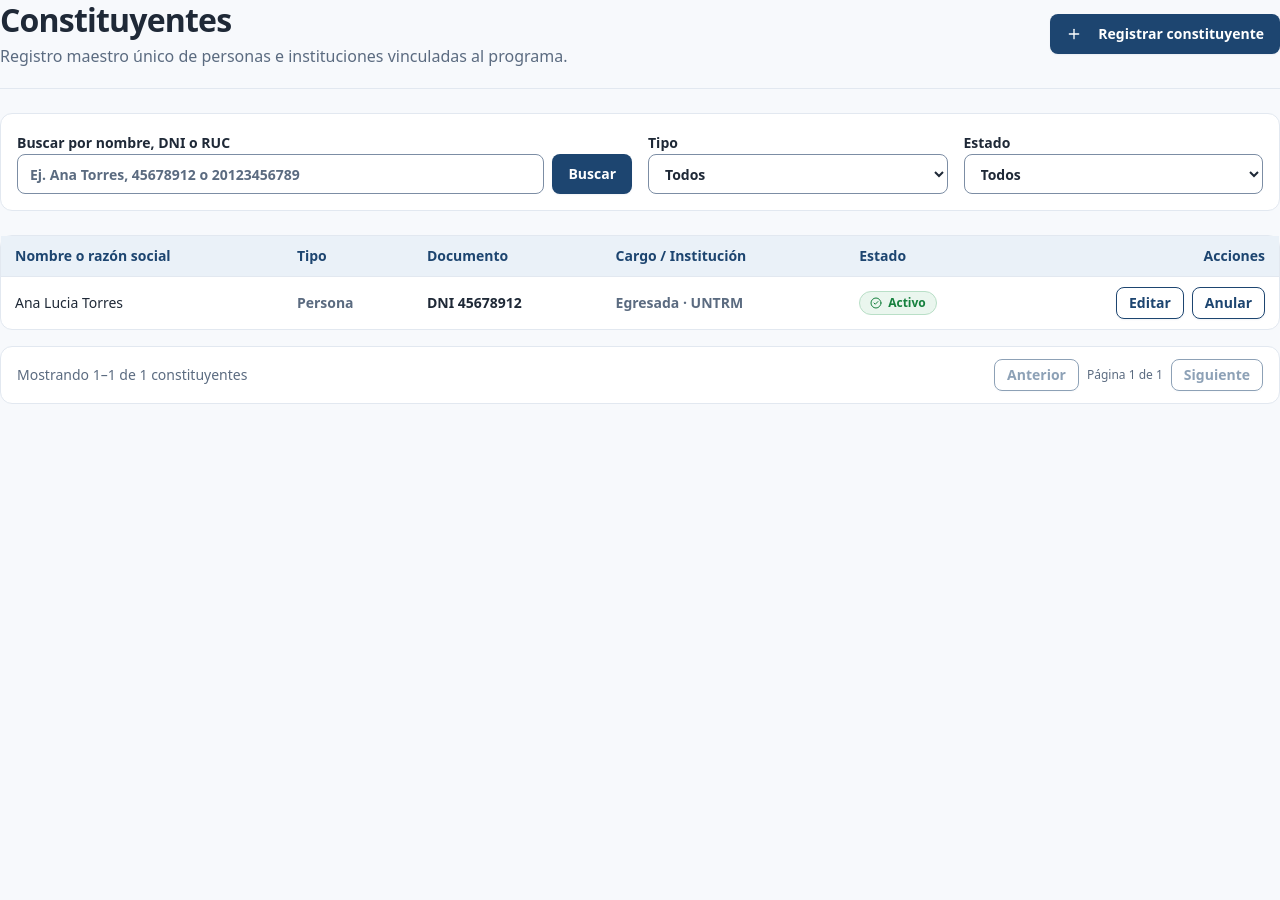
Test: StakeholdersPage (HU-021, T-021-17, T-021-29) › registers and edits a stakeholder in a dialog
Expected: the text "Ana Lucia Torres" is shown, [1,276,283,328]
Click the button "Registrar constituyente" at {"x": 1165, "y": 34}, box [1050,14,1279,54]
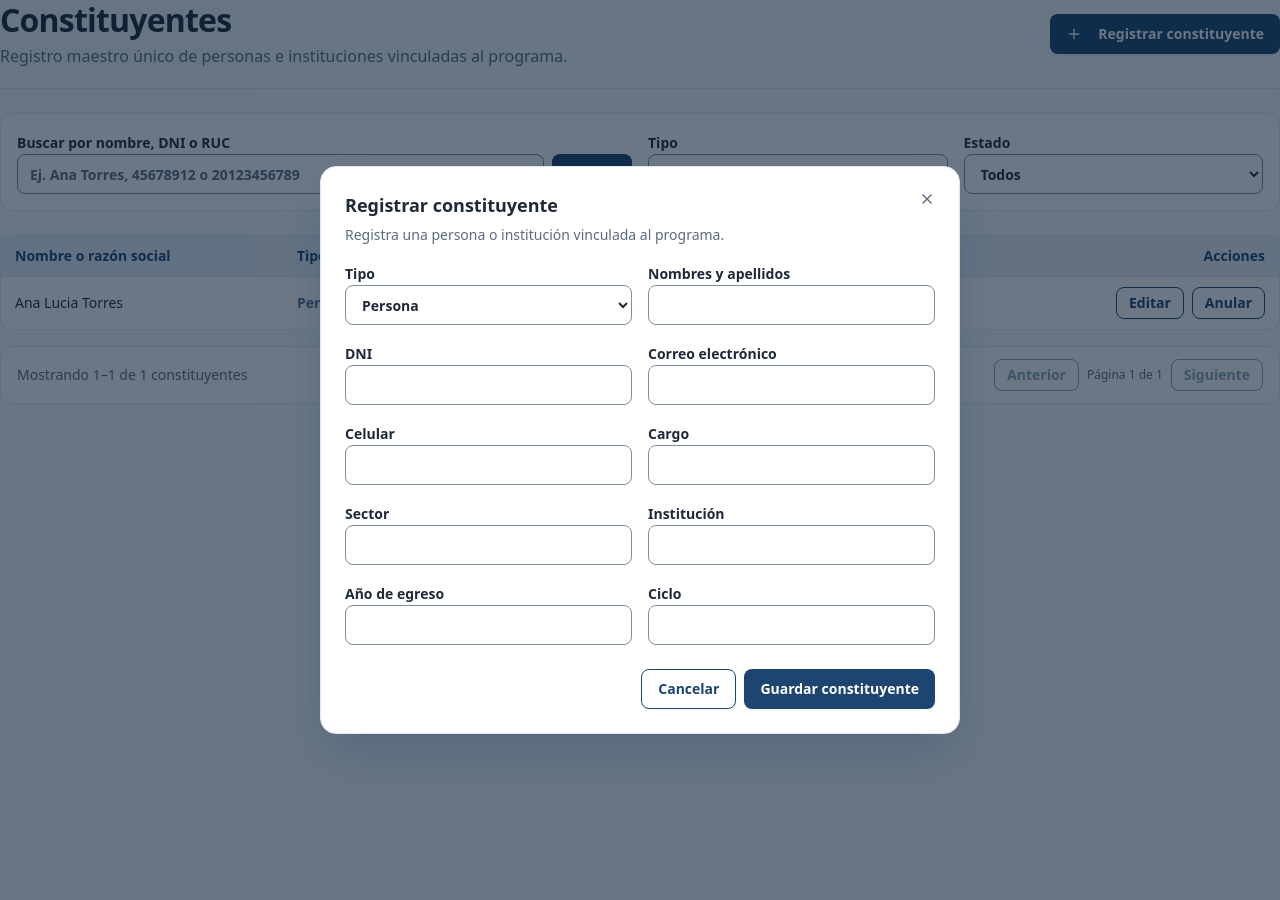
Now the dialog shows "Registrar constituyente", box [345,193,558,217]
Click the button "Cancelar" at {"x": 689, "y": 689}, box [641,669,736,709]
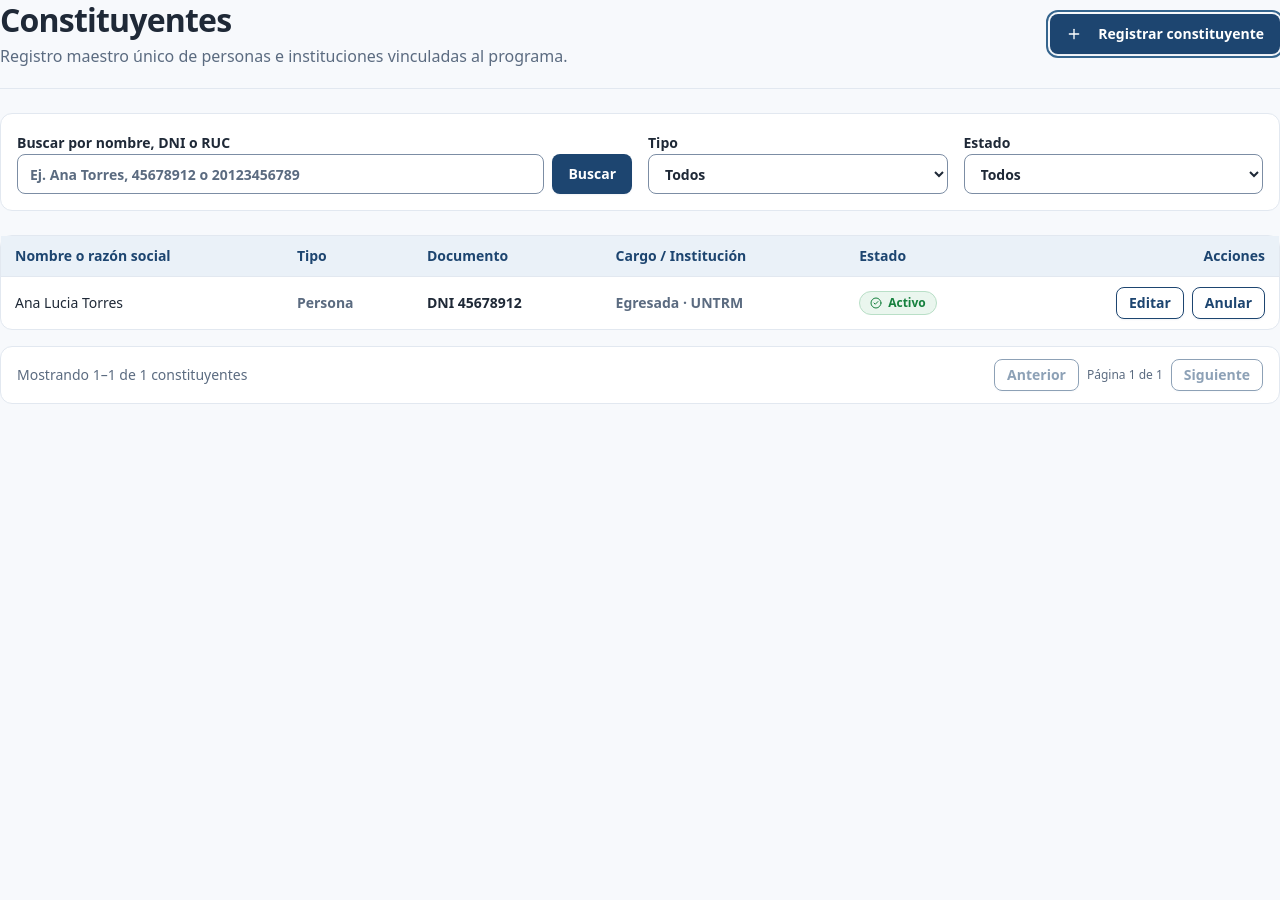
Now the dialog is gone
Click the button "Editar" at {"x": 1150, "y": 302}, box [1116,286,1184,318]
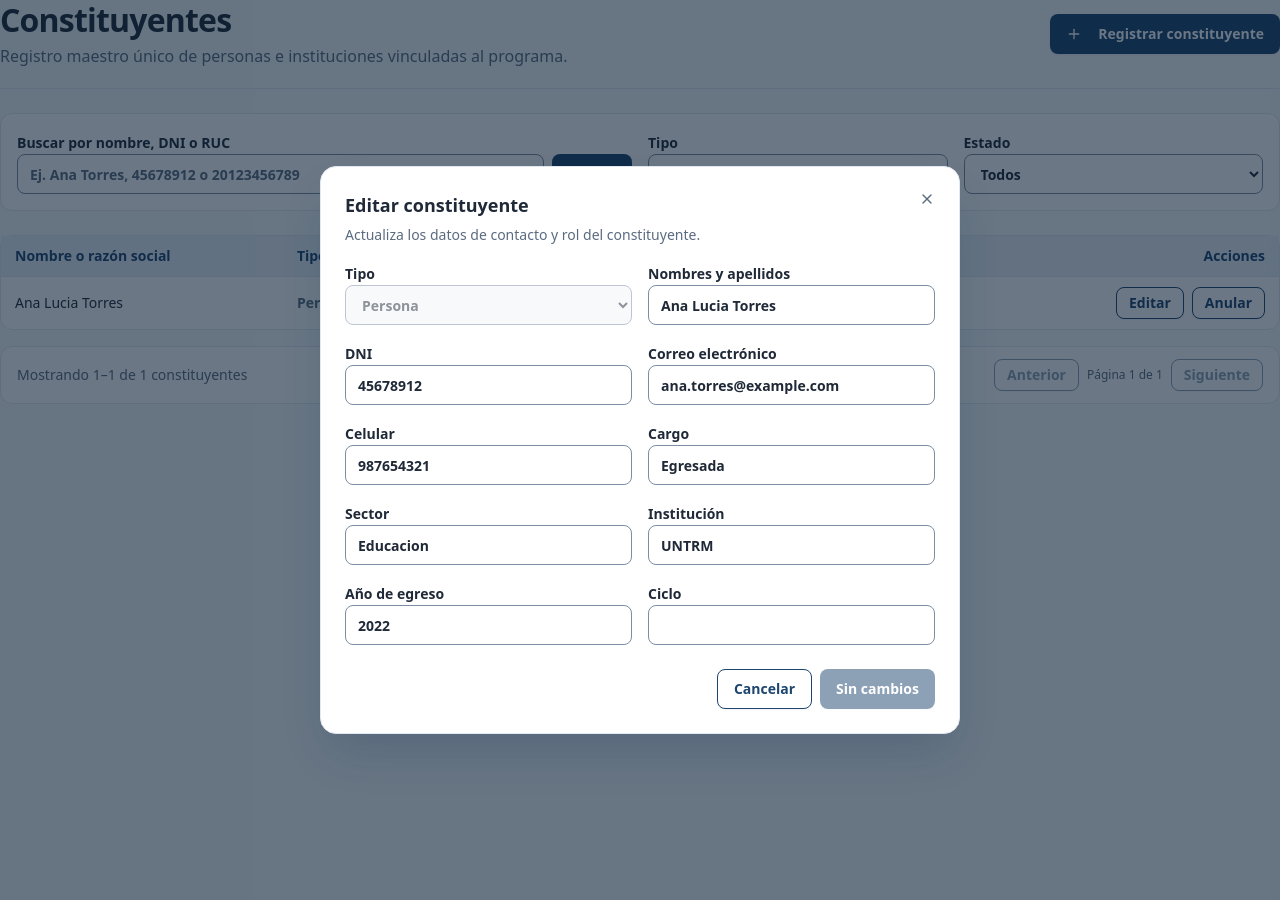
Now the dialog shows "Editar constituyente", box [345,193,529,217]
Replace the text in the field labelled "Nombres y apellidos" with "Ana Lucia Editada" at {"x": 792, "y": 305}, box [648,285,935,325]
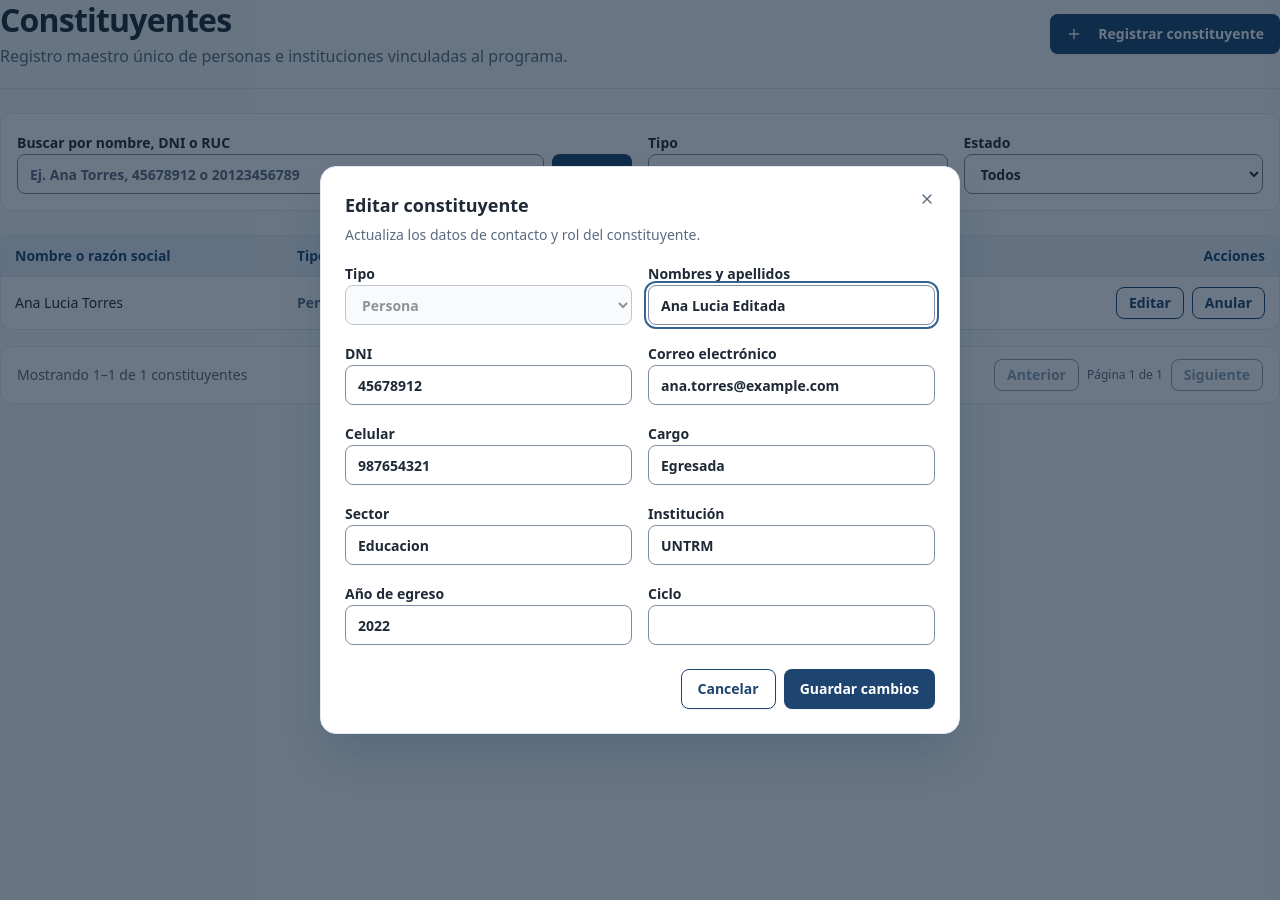
Click the button "Guardar cambios" at {"x": 859, "y": 689}, box [784,669,935,709]
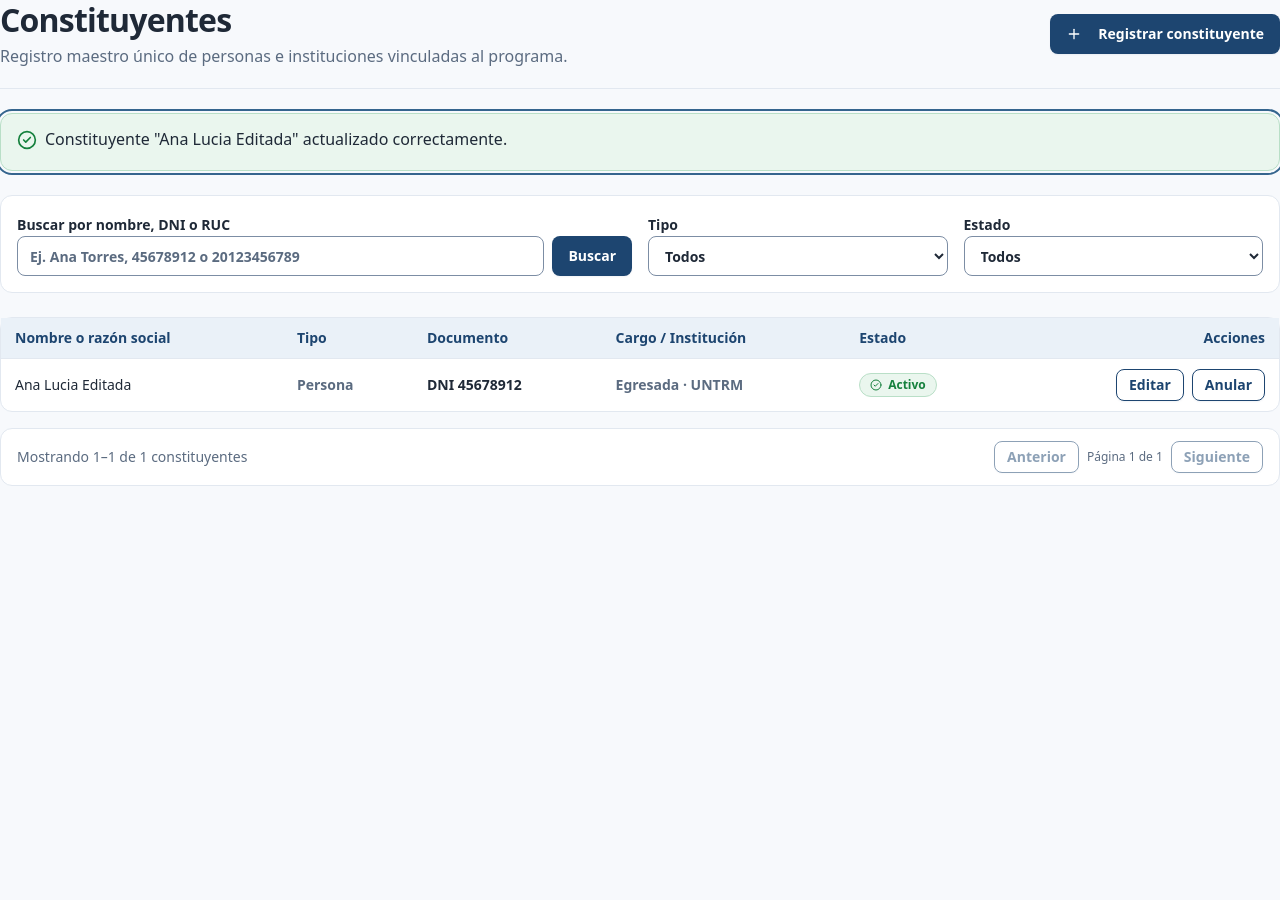
Now the dialog is gone
Now the text "Constituyente \"Ana Lucia Editada\" actualizado correctamente." is shown, box [45,128,507,150]
